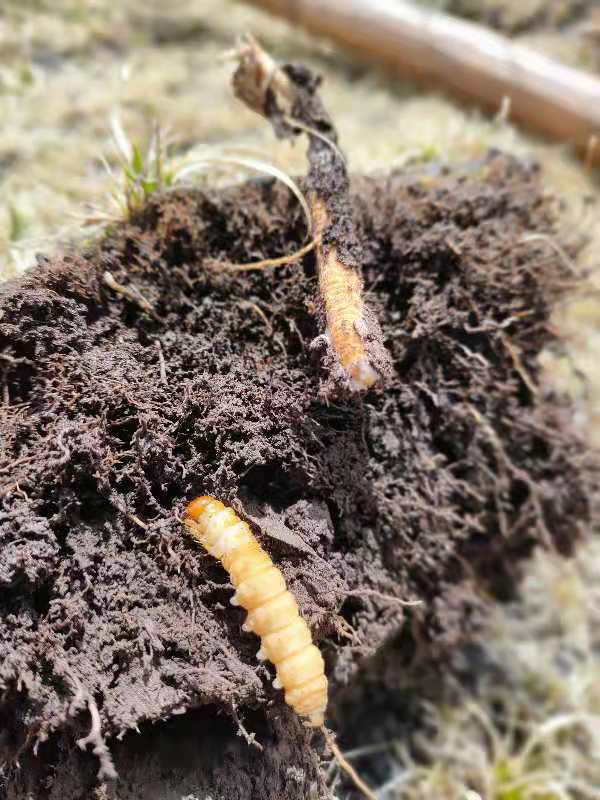cpf: (243, 49, 402, 386), (185, 494, 331, 732)
